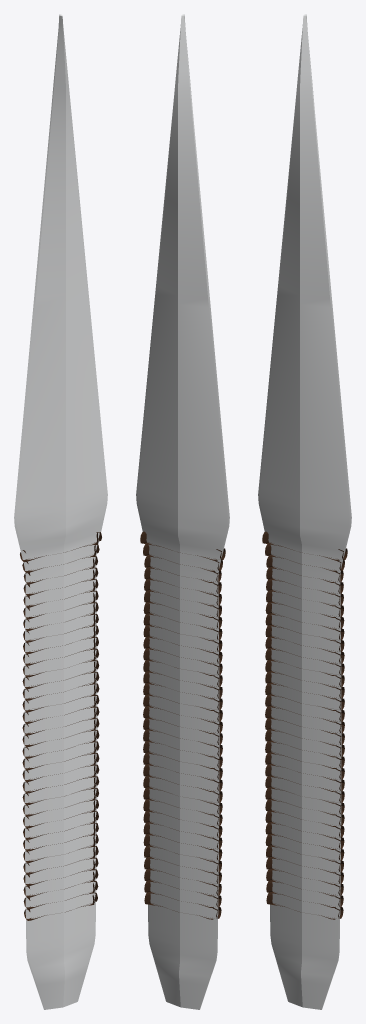
Rendered from throwing.glb.
3 views of the same model, side by side, from view 1: azimuth 30°, elevation 25°; view 2: azimuth 150°, elevation 25°; view 3: azimuth 330°, elevation 25° (orthographic).
Parts seen in each view (by area): view 1: throw_blade; view 2: throw_blade; view 3: throw_blade.
Boxes of the visible parts, x1,y1,x2,y2 form: throw_blade: (14, 14, 107, 1009); throw_blade: (136, 14, 229, 1009); throw_blade: (258, 14, 351, 1009).
Size of the model in its own units: 0.0278 by 0.28 by 0.005.
